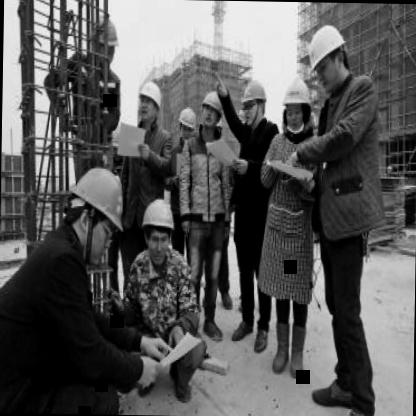helmet: (61, 160, 124, 254), (305, 19, 353, 92), (140, 195, 176, 262), (280, 70, 314, 136), (134, 73, 164, 131), (94, 6, 120, 72), (241, 76, 266, 126), (200, 89, 223, 134), (174, 102, 198, 142)
